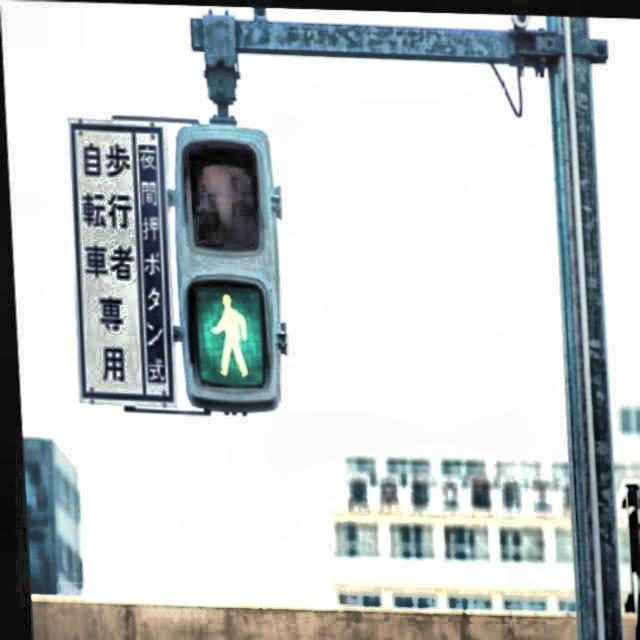semaforo pedestre: (85, 93, 342, 464)
